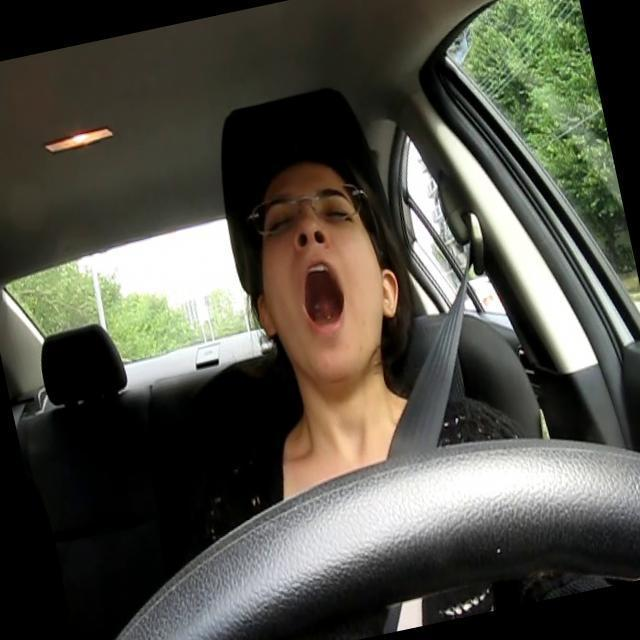open-mouth: (300, 260, 348, 338)
